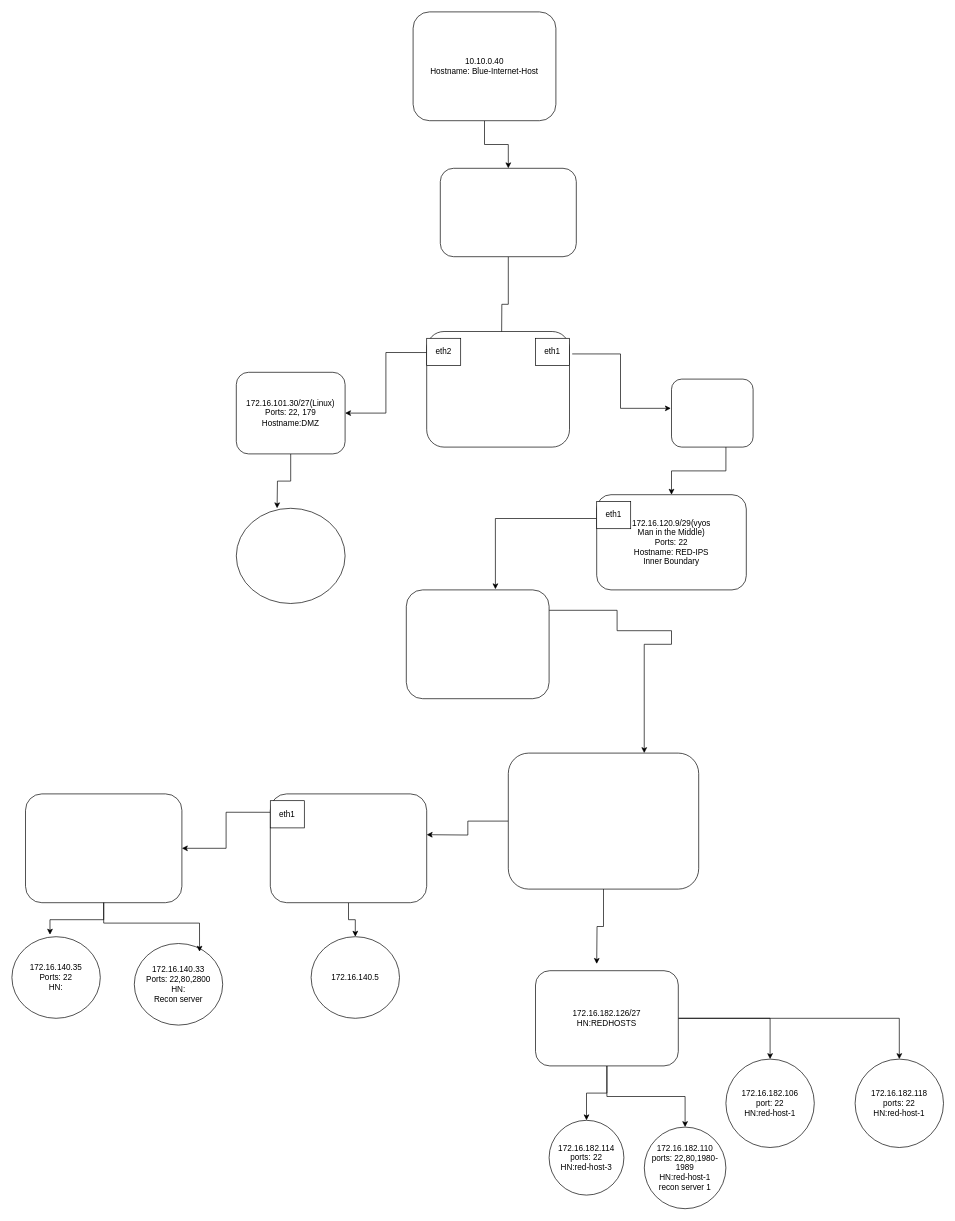
This 955x1221 diagram has some shape labels left out. Each missing label, with the box of its shape:
10.0.0.33/27, 10.50.189.76 Hostname: Red-internet-Host: (440, 168, 576, 257)
172.16.101.2 Ports: 22 hostname:red-dmz-host-1: (236, 508, 345, 604)
172.16.120.1(vyos system, Red Boundary RTR) Ports: 22,179 Hostname: RED-SCR: (426, 331, 570, 447)
172.16.120.10/29 Hostname:RED-SCR Ports: 22, 179 Man-in-the-middle: (671, 378, 753, 447)
172.16.120.17/29( vyos) Ports: 22 Hostname: RED-POP: (508, 752, 699, 889)
172.16.120.18/29(Donovian Inner Boundary, vyos) Ports: 22 Hostname: RED-IPS: (406, 589, 549, 699)
172.16.140.6/29 Ports: 22 HN: RED-POP2 REDINTDMZ: (270, 793, 427, 903)
172.16.140.62/27 PORTS: 22 REDINTDMZ2: (25, 793, 182, 903)
